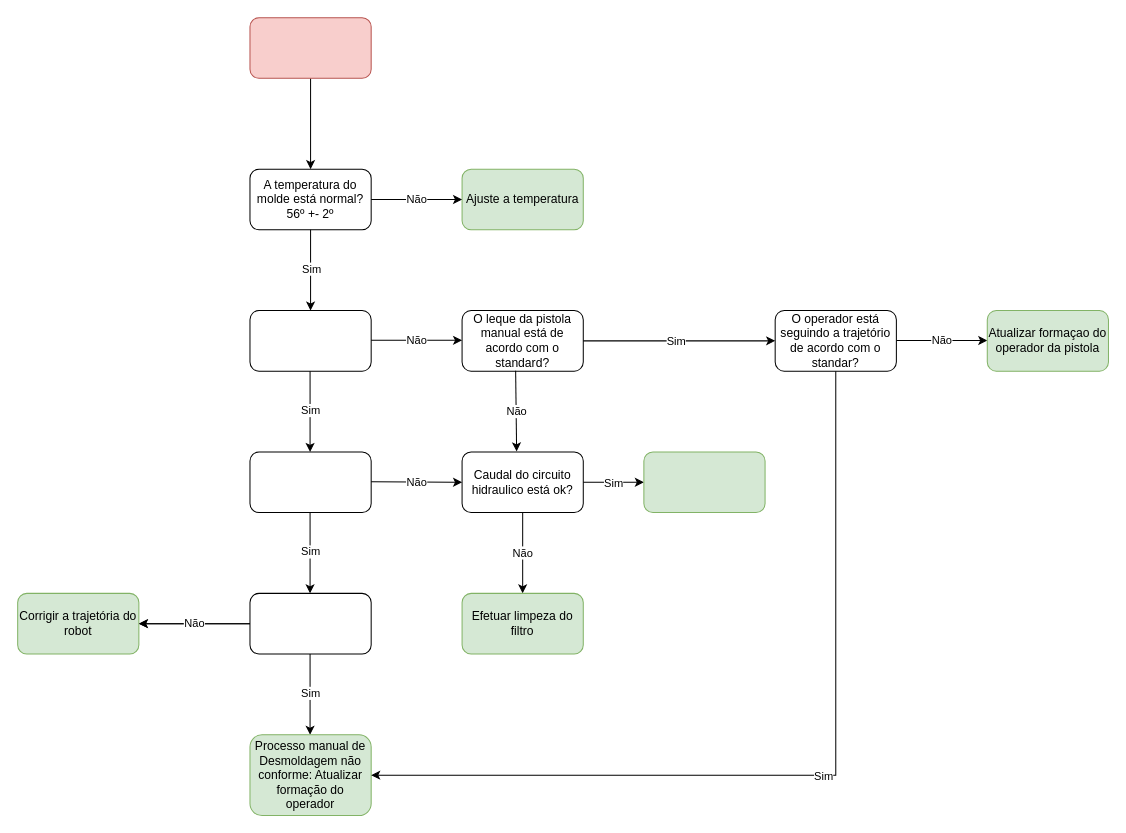
Image size: 1126x833. Some labels were removed from this diagram. Here are the shapes that lost their labels. From the top down, the centre of each, then its label:
At pixel 310 47: "Peça Rasgada".
At pixel 310 340: "A pulverização está em modo automático?".
At pixel 310 482: "O leque da pistola automática está de acordo com o standard?".
At pixel 704 482: "Efetuar limpezar do bico da pistola".
At pixel 310 623: "A trajetória do robot está ok?".
